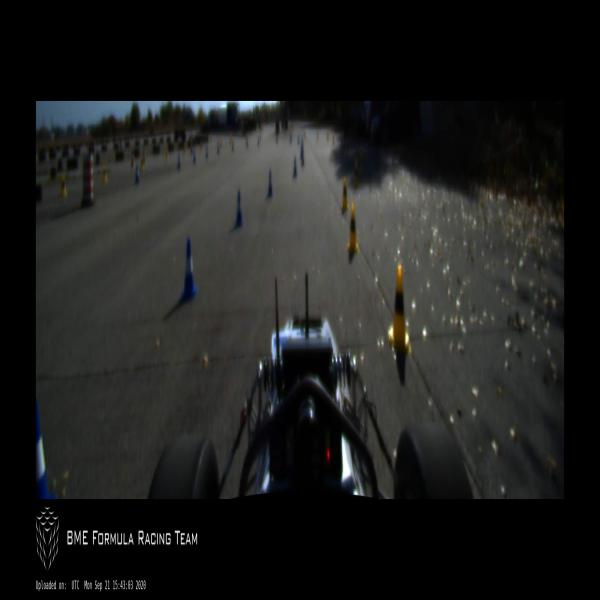blue_cone: (36, 396, 56, 498), (179, 238, 198, 303), (235, 190, 243, 228), (267, 170, 273, 199), (292, 157, 298, 178), (135, 166, 140, 183), (177, 154, 181, 170), (301, 150, 304, 166), (193, 149, 196, 164), (205, 146, 208, 156), (217, 142, 219, 154), (301, 146, 303, 158), (232, 140, 234, 150), (257, 135, 259, 145), (298, 134, 300, 144), (246, 138, 248, 148), (290, 132, 292, 142), (276, 134, 278, 143)
yellow_cone: (388, 266, 412, 354), (346, 203, 359, 254), (340, 176, 349, 212), (61, 173, 68, 199), (354, 162, 360, 188), (102, 164, 107, 184), (140, 155, 144, 170), (361, 154, 364, 171), (165, 147, 168, 162), (355, 148, 358, 163), (219, 136, 222, 146), (347, 141, 349, 154), (183, 145, 185, 155), (200, 142, 202, 152), (304, 130, 306, 138), (245, 135, 247, 143), (332, 135, 334, 142), (317, 132, 319, 138), (230, 132, 231, 142), (327, 132, 328, 141)
